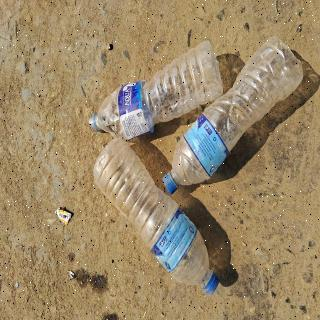Plastic-bottle: (161, 36, 307, 194), (92, 136, 224, 296), (88, 38, 229, 145)
